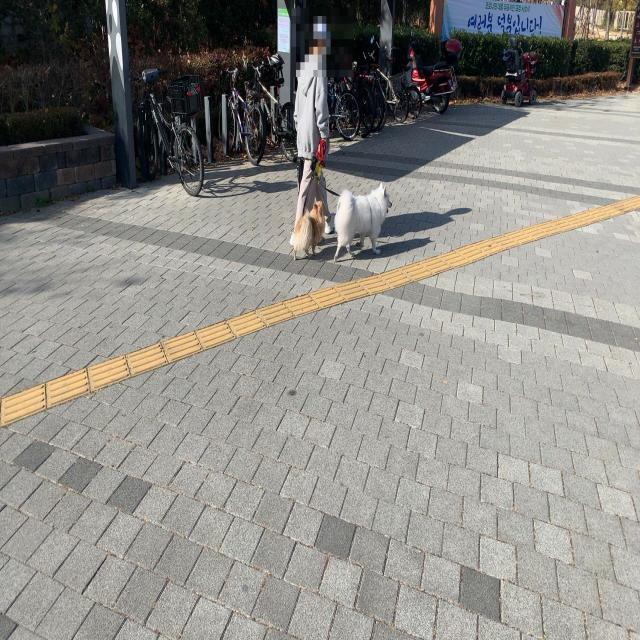Leashed_Dog: (314, 134, 393, 265), (292, 135, 330, 262)
